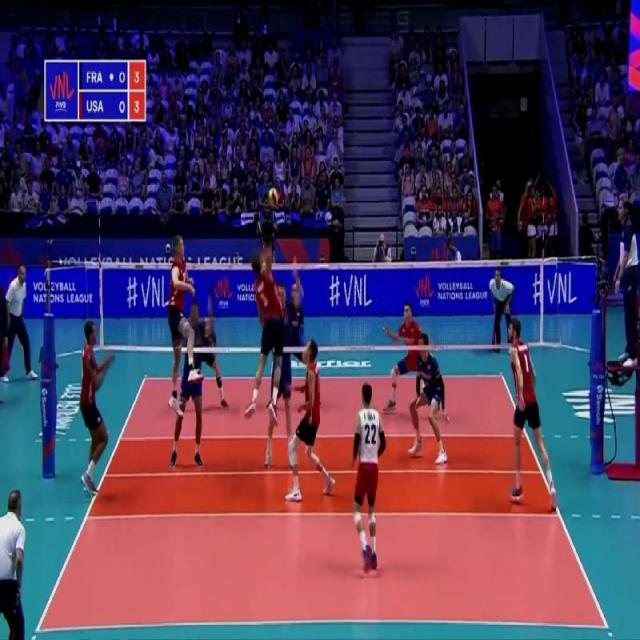volleyball: (268, 187, 278, 206)
